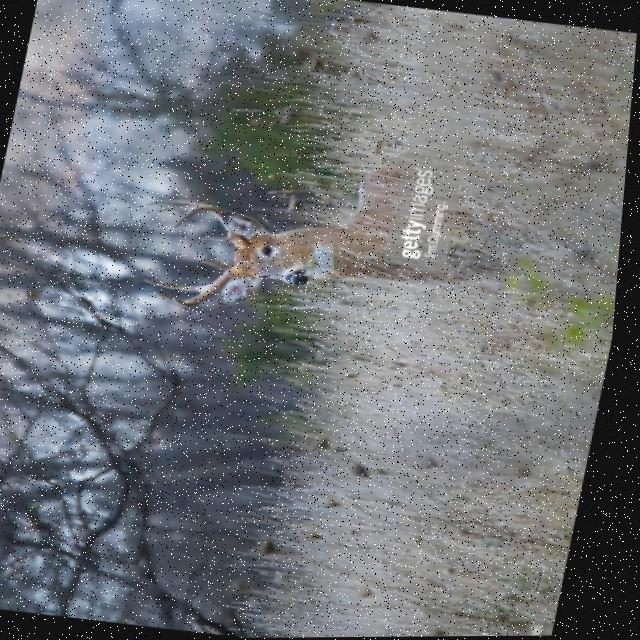L-F: (177, 204, 252, 248)
L-G1: (203, 234, 237, 242)
L-G2: (149, 198, 211, 205)
R-F: (177, 265, 246, 306)
R-G1: (201, 254, 238, 270)
R-G2: (148, 278, 213, 291)
